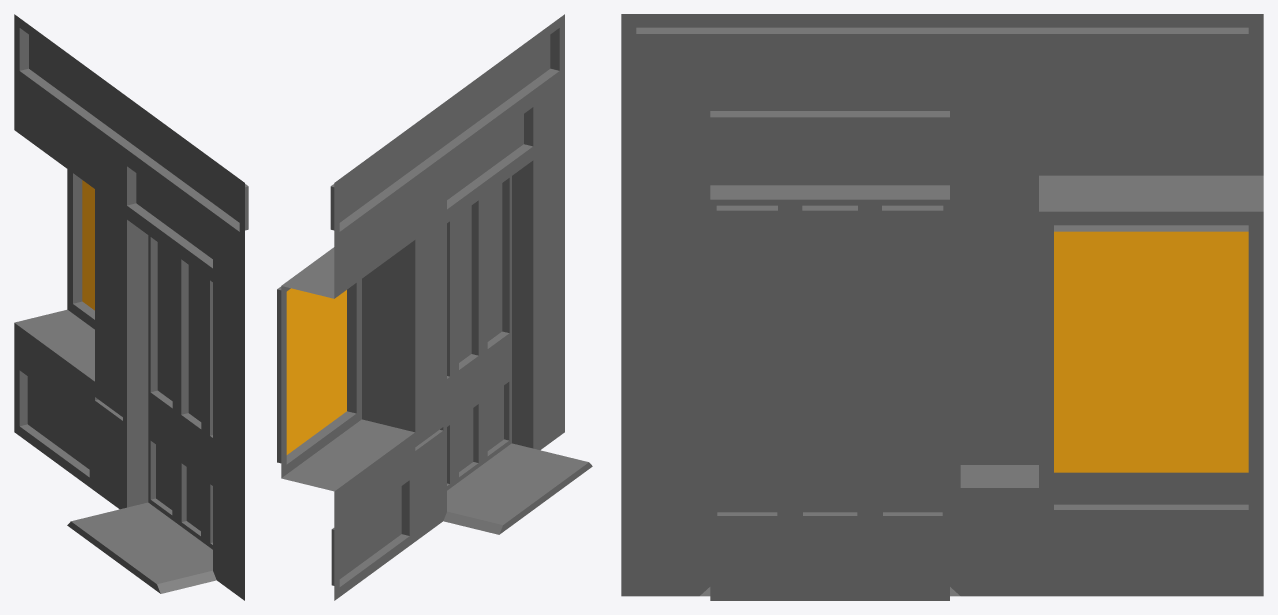
The model's file is O7_Facade_Boutique_Porte_Fenetre_Gauche.fbx.
3 views of the same model, side by side, from view 1: azimuth 30°, elevation 25°; view 2: azimuth 150°, elevation 25°; view 3: azimuth 270°, elevation 25° (orthographic). The views are drawn at different scales.
Parts seen in each view (by area): view 1: O_Facade_Boutique_Porte_Fenetre_Gauche; view 2: O_Facade_Boutique_Porte_Fenetre_Gauche; view 3: O_Facade_Boutique_Porte_Fenetre_Gauche.
Part boxes in pixels (x1,y1,x2,y2): O_Facade_Boutique_Porte_Fenetre_Gauche: [14, 14, 248, 600]; O_Facade_Boutique_Porte_Fenetre_Gauche: [277, 14, 592, 600]; O_Facade_Boutique_Porte_Fenetre_Gauche: [621, 14, 1263, 600].
Bounding box in the file's own units: 0.8917 × 3 × 3.
